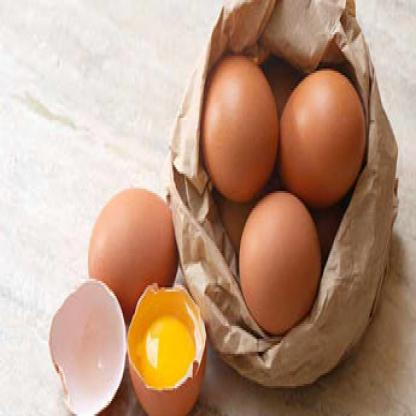egg: (268, 56, 372, 206), (77, 171, 180, 308), (197, 41, 282, 206), (230, 184, 324, 330)
